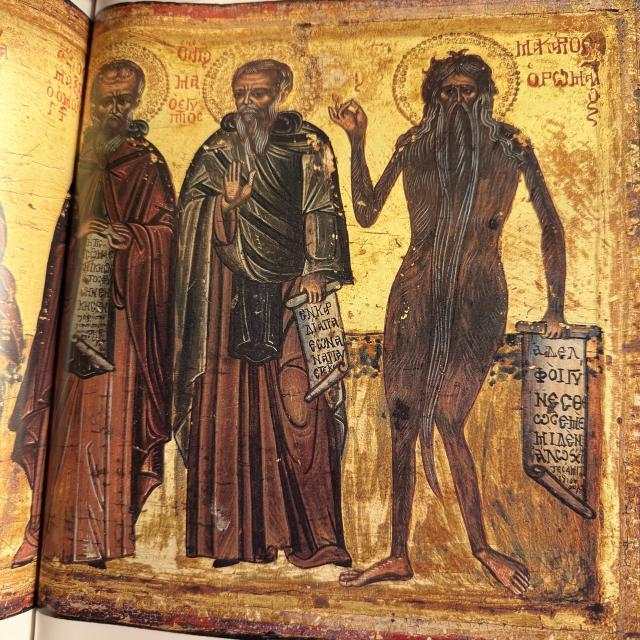aura: (394, 33, 520, 129), (198, 43, 320, 131), (86, 47, 170, 133)
saint: (177, 36, 347, 562), (362, 32, 518, 592), (65, 56, 179, 592)
scroll: (513, 319, 606, 527), (63, 222, 123, 387), (290, 280, 360, 406)
